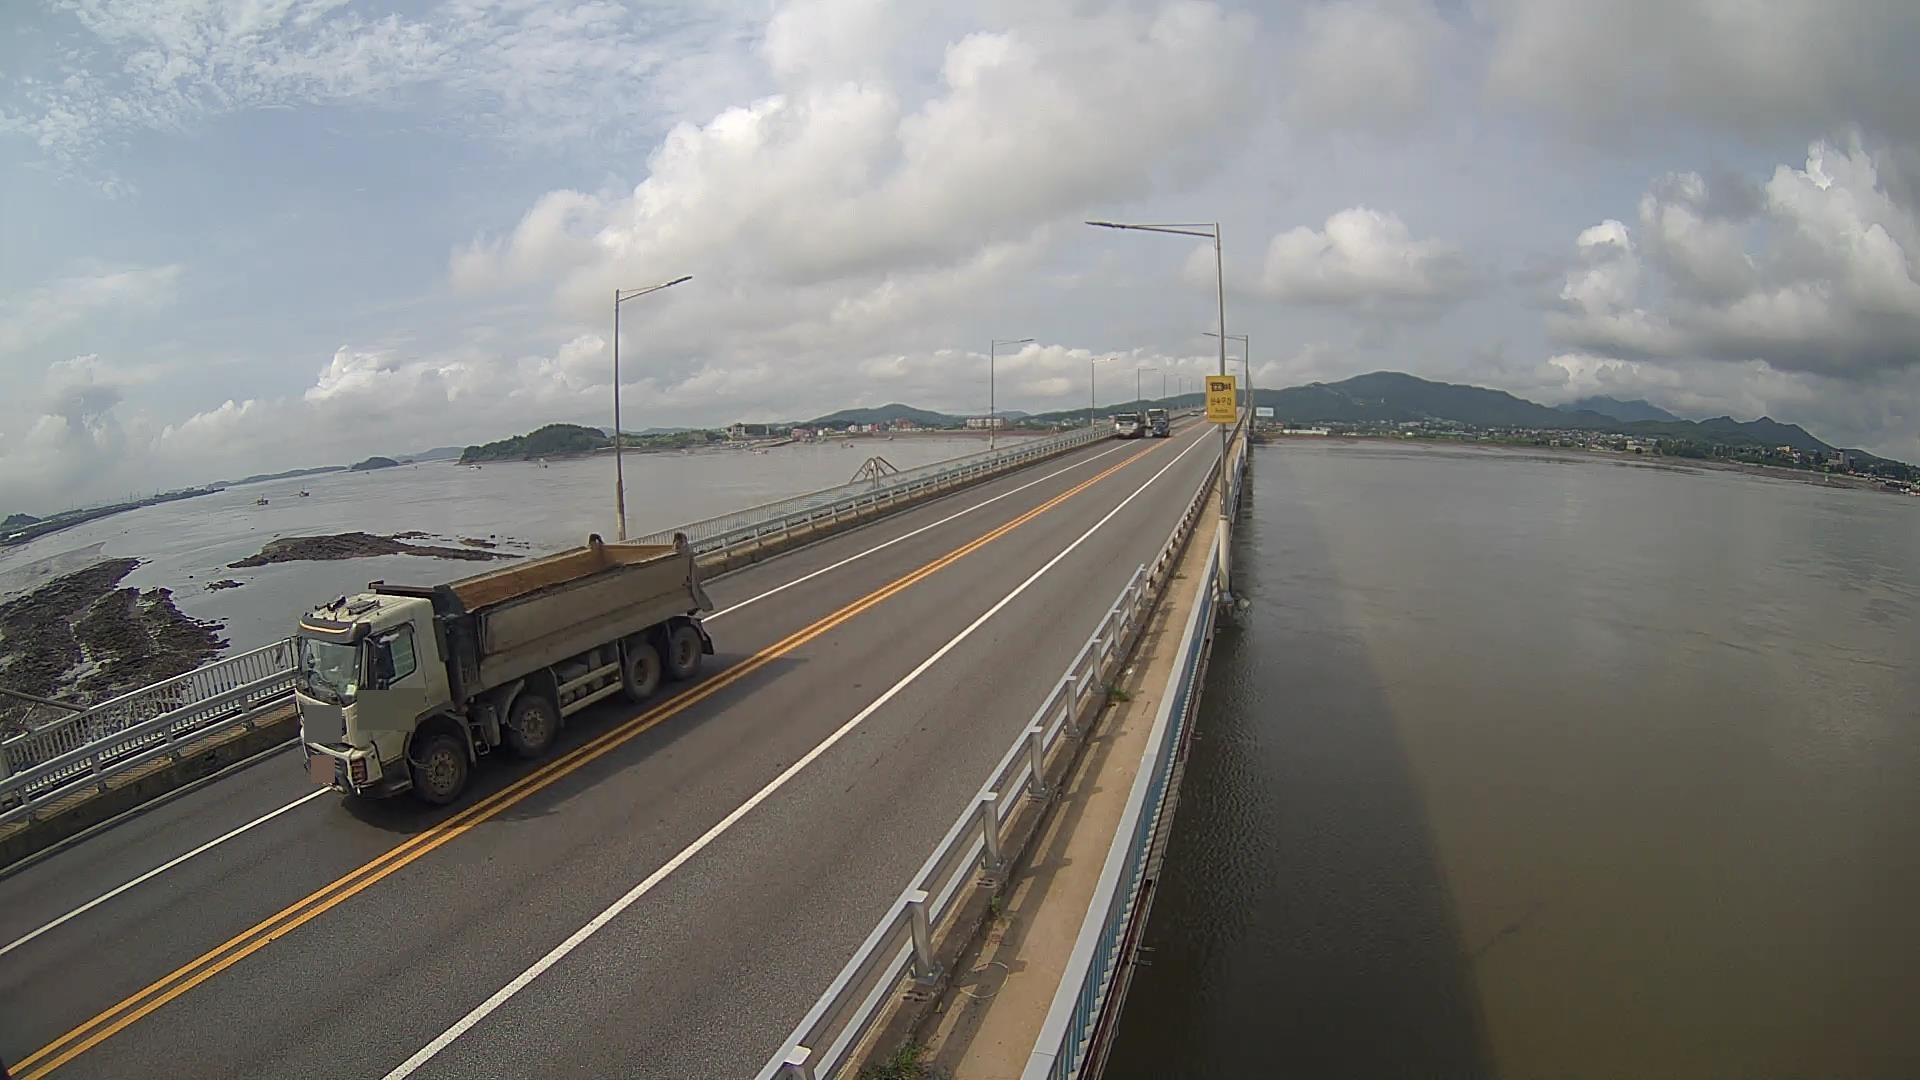정상차량: (274, 531, 715, 804)
